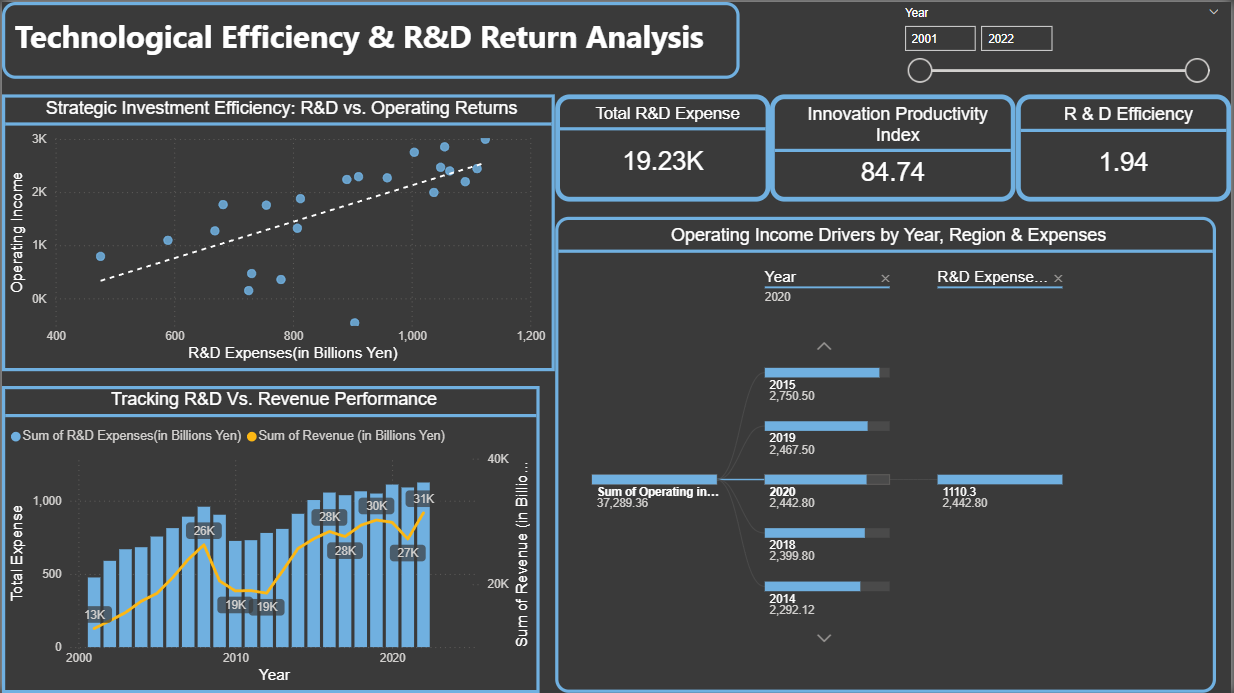

The dashboard page shown, as its layout file describes it:
{"tool":"powerbi","page":{"name":"Technological Factor","canvas":[1280,720],"ordinal":2},"visuals":[{"type":"card","title":"Total R&D Expense","fields":{"Values":["Sum(Annual Report.R&D Expenses(in Billions Yen))"]},"box":[576,96,224,112],"z":0},{"type":"scatterChart","title":"Strategic Investment Efficiency: R&D vs. Operating Returns","fields":{"X":["Annual Report.R&D Expenses(in Billions Yen)"],"Y":["Annual Report.Operating income (in Billions Yen)"]},"box":[0,96,576,288],"z":1000},{"type":"lineStackedColumnComboChart","title":"Tracking  R&D Vs. Revenue Performance","fields":{"Y":["Sum(Annual Report.R&D Expenses(in Billions Yen))"],"Category":["Annual Report.Year"],"Y2":["Sum(Annual Report.Revenue (in Billions Yen))"]},"box":[0,400,560,320],"z":2000},{"type":"decompositionTreeVisual","title":"Operating Income Drivers by Year, Region & Expenses","fields":{"Analyze":["Sum(Annual Report.Operating income (in Billions Yen))"],"ExplainBy":["Sales & Production.Year","Annual Report.R&D Expenses(in Billions Yen)"]},"box":[576,224,688,496],"z":3000},{"type":"card","title":"Innovation Productivity Index","fields":{"Values":["Annual Report.Innovation Productivity Index"]},"box":[800,96,256,112],"z":4000},{"type":"card","title":"R & D Efficiency","fields":{"Values":["Annual Report.R&D Efficiency"]},"box":[1056,96,224,112],"z":5000},{"type":"slicer","fields":{"Values":["Annual Report.Year"]},"box":[928,0,352,96],"z":6000},{"type":"textbox","box":[0,0,768,80],"z":7000}]}

Visuals, with their boxes in screenshot pixels (x1, y1, x2, y2), scaled from the page's 1280x720 canvas onto the 1234x693 screenshot:
"Total R&D Expense" card: BBox(555, 92, 771, 200)
"Strategic Investment Efficiency: R&D vs. Operating Returns" scatterChart: BBox(0, 92, 555, 370)
"Tracking  R&D Vs. Revenue Performance" lineStackedColumnComboChart: BBox(0, 385, 540, 692)
"Operating Income Drivers by Year, Region & Expenses" decompositionTreeVisual: BBox(555, 216, 1219, 692)
"Innovation Productivity Index" card: BBox(771, 92, 1018, 200)
"R & D Efficiency" card: BBox(1018, 92, 1233, 200)
slicer - Annual Report.Year: BBox(895, 0, 1233, 92)
textbox: BBox(0, 0, 740, 77)
